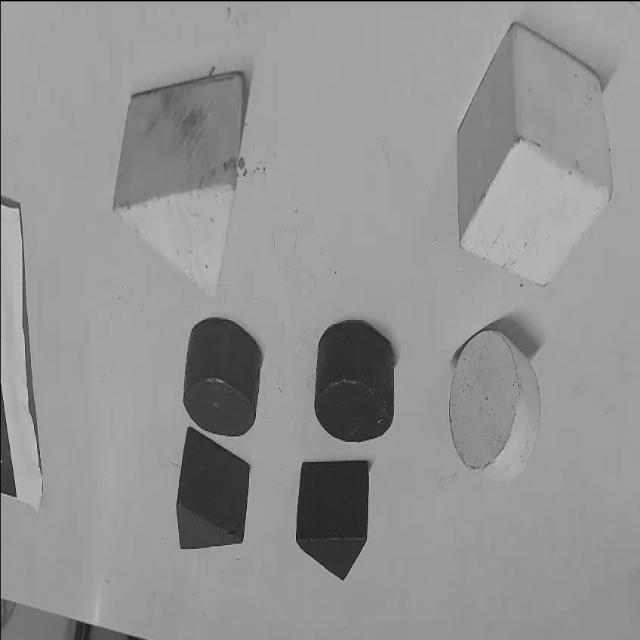bcircle: (314, 321, 397, 443)
btriangle: (295, 456, 371, 580)
rcircle: (181, 317, 263, 441)
rtriangle: (176, 426, 252, 551)
ycircle: (448, 329, 540, 480)
ycube: (454, 19, 614, 290)
ytriangle: (112, 71, 246, 298)
